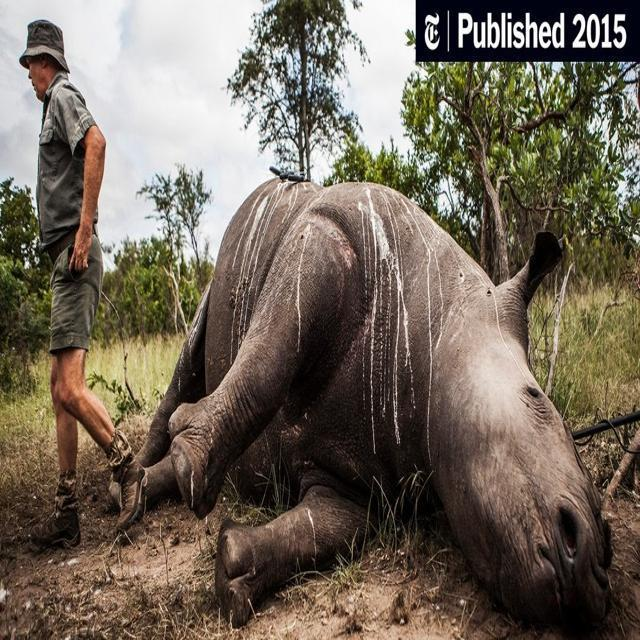Rinoceros: (151, 94, 622, 640)
